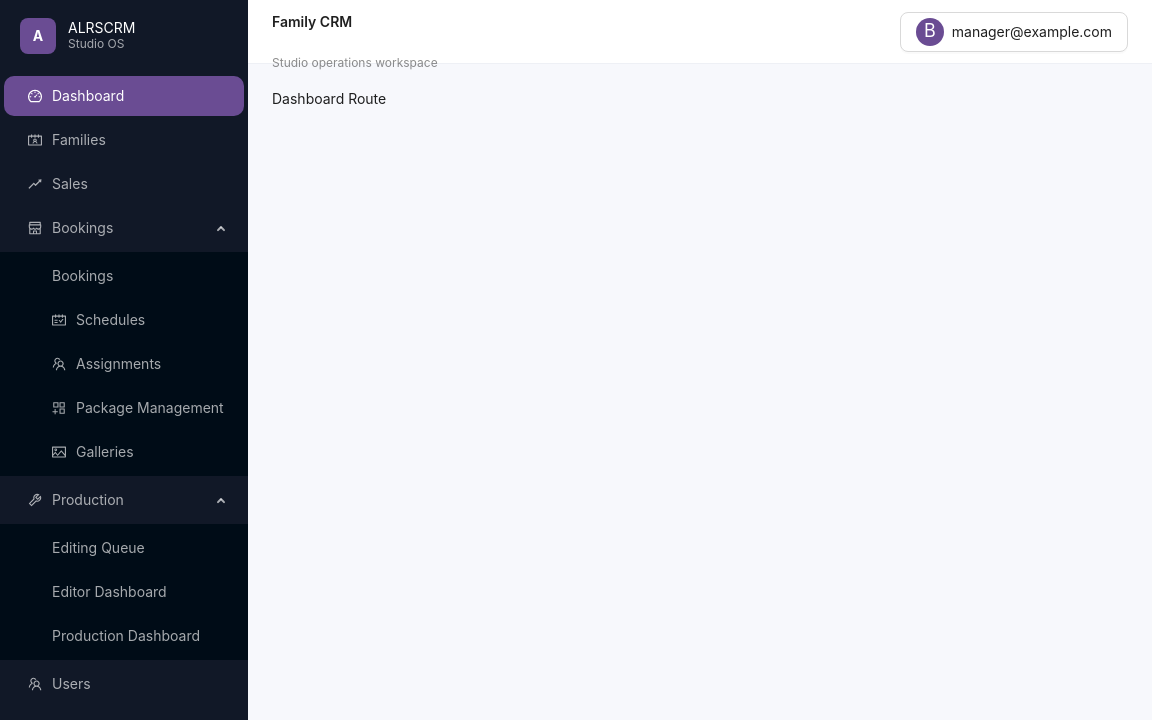
Test case: DashboardLayout › navigates to the production dashboard
Click the menu item "Production Dashboard" at x=126, y=636, box [52,627,200,644]
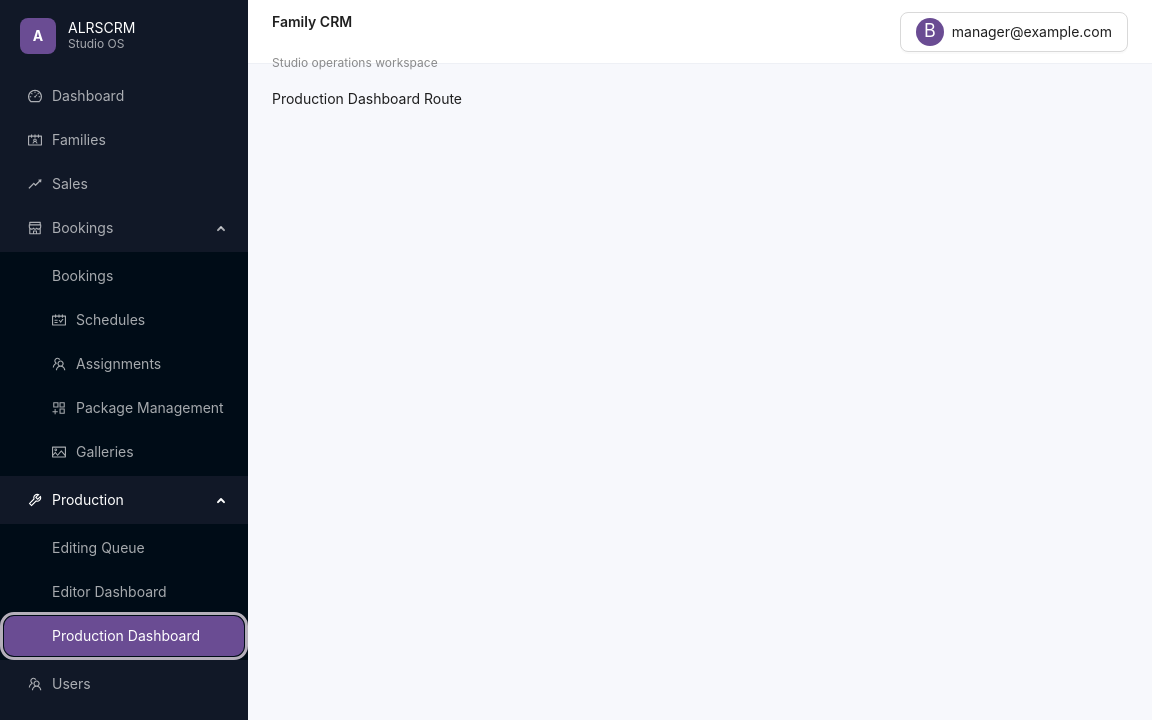
Now the text "Production Dashboard Route" is shown, box [272,90,462,107]
